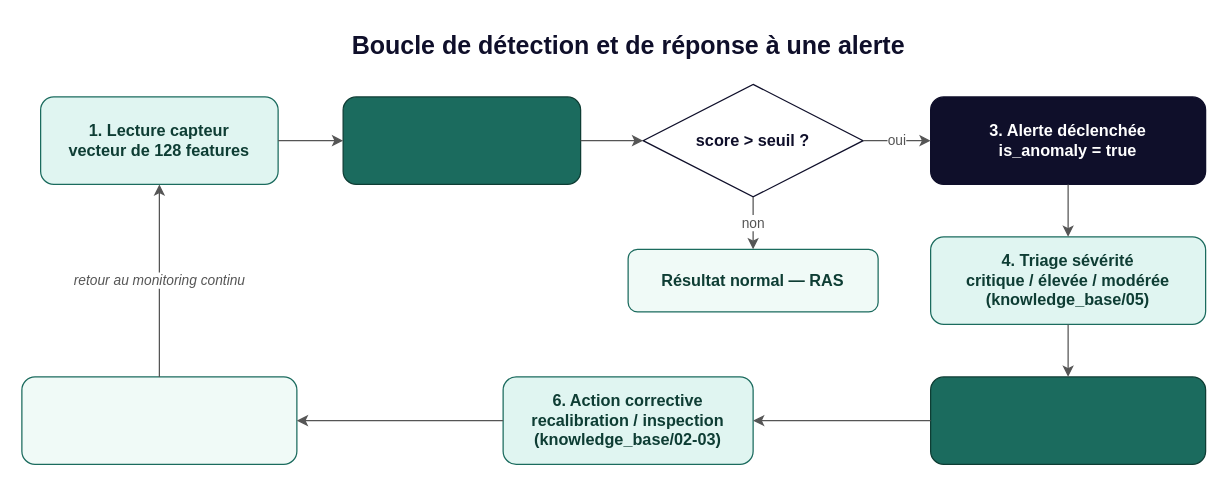
This 1228x486 diagram has some shape labels left out. Each missing label, with the centre of its shape:
2. Autoencoder score de reconstruction: [461,140]
5. POST /ask "pourquoi cette alerte ?" RAG → mécanisme précis: [1067,420]
7. Documentation horodatage, score, résolution (knowledge_base/06): [159,420]
